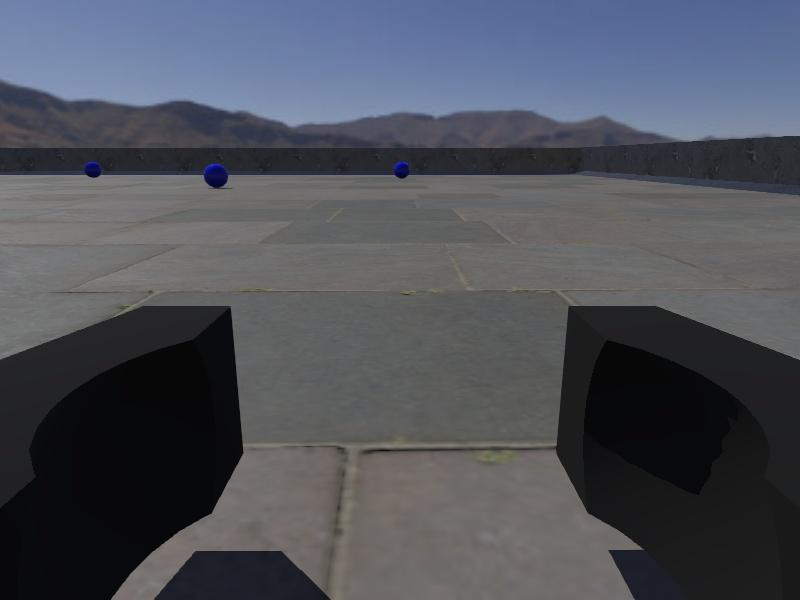blue ball: (203, 164, 228, 188), (392, 161, 411, 179), (83, 161, 102, 178)
